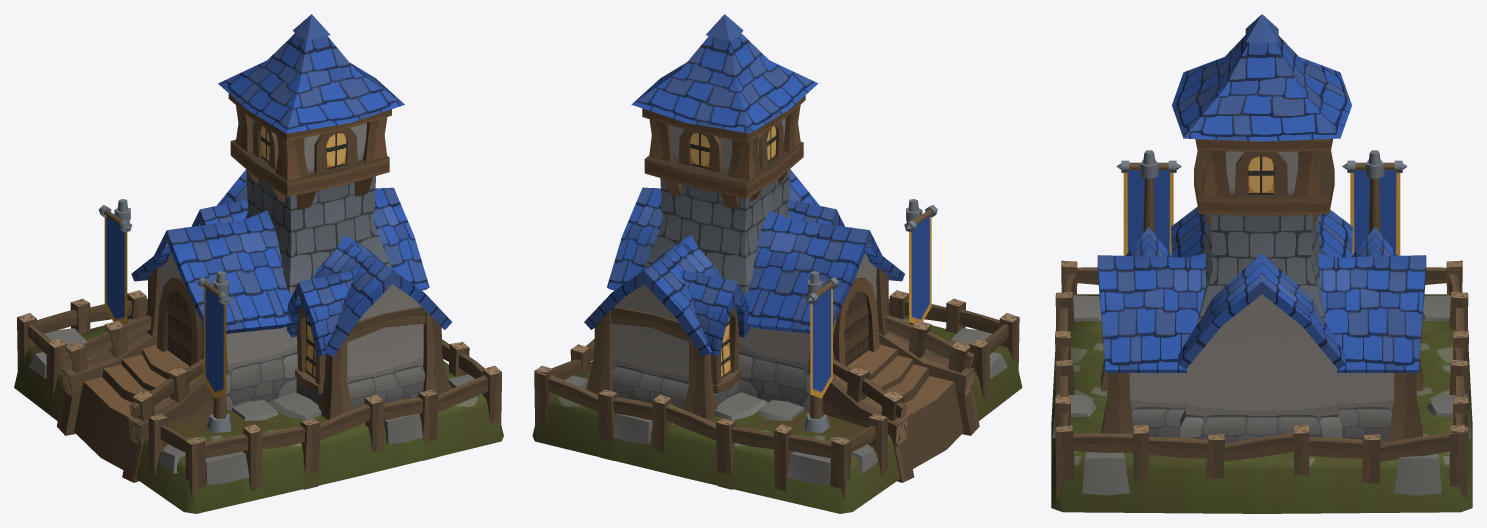
File: TownHall.FBX
3 views of the same model, side by side, from view 1: azimuth 30°, elevation 25°; view 2: azimuth 150°, elevation 25°; view 3: azimuth 270°, elevation 25° (orthographic). The views are drawn at different scales.
Visible parts, largest first — view 1: TownHall; view 2: TownHall; view 3: TownHall.
Boxes of the visible parts, x1,y1,x2,y2 form: TownHall: (14, 14, 503, 513); TownHall: (532, 14, 1022, 513); TownHall: (1051, 14, 1472, 513).
Bounding box in the file's own units: 839 × 957 × 820.
